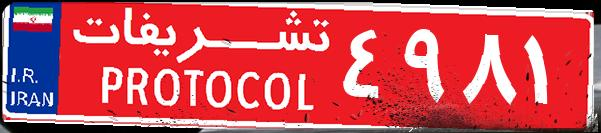1: (520, 20, 580, 115)
4: (340, 20, 400, 115)
8: (460, 20, 520, 115)
9: (400, 20, 460, 115)
تشریفات: (60, 8, 340, 125)
